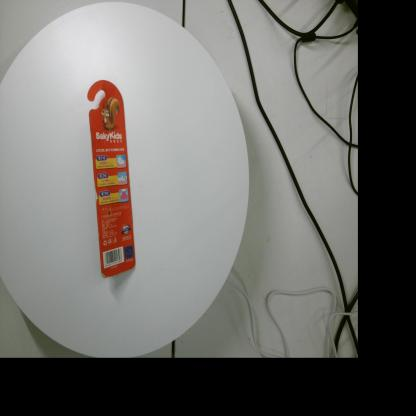Personal Hygiene: (87, 80, 136, 278)
